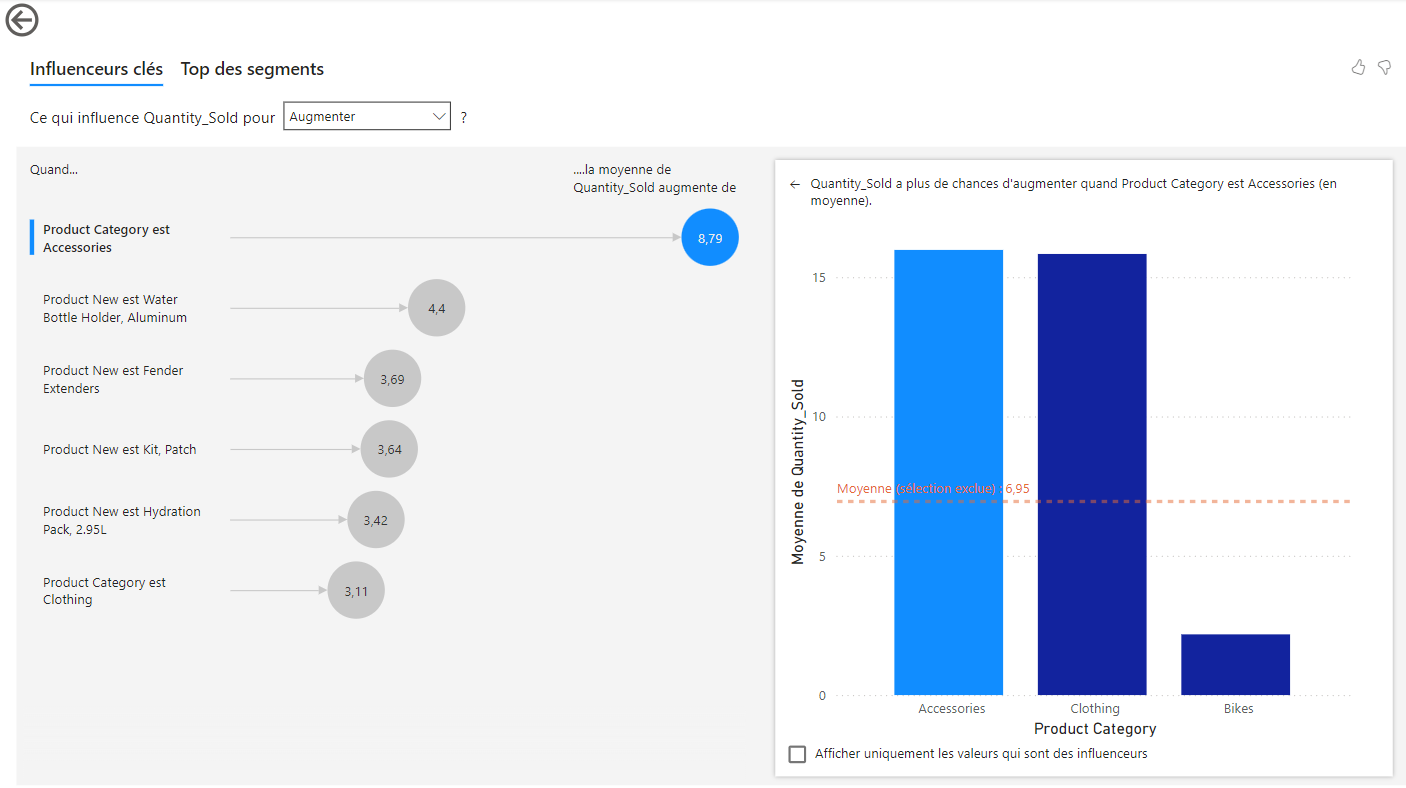

The page's visual inventory and layout, read from the dashboard file:
{"tool":"powerbi","page":{"name":"Key Influencer","canvas":[1280,720],"ordinal":1},"visuals":[{"type":"keyDriversVisual","fields":{"Target":["Maven Cycles Sales.Quantity_Sold"],"ExplainBy":["Maven Cycles Product Categories.Product Category","Maven Cycles Products.Product New"]},"box":[10,39.9,1270.4,679.2],"z":0},{"type":"actionButton","box":[0,0,42.6,39.9],"z":1}]}

Visuals, with their boxes on the page's 1280x720 design canvas (x1, y1, x2, y2). These are canvas units, not pixel positions in the 1406x788 screenshot, which may show the page scaled, cropped or inside an application window:
keyDriversVisual - Maven Cycles Sales.Quantity_Sold x Maven Cycles Product Categories.Product Category: (x1=10, y1=40, x2=1280, y2=719)
actionButton: (x1=0, y1=0, x2=43, y2=40)
